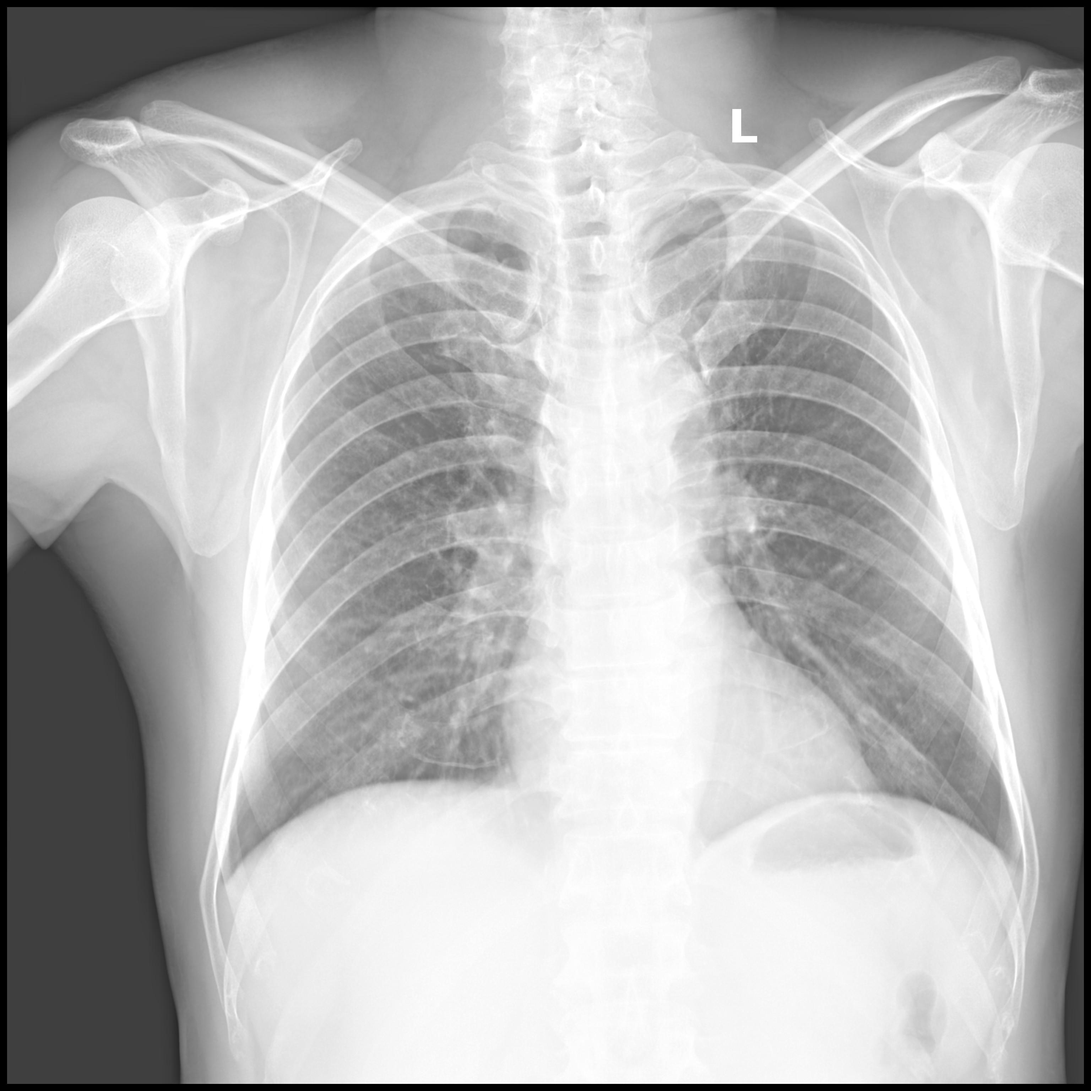Aortic enlargement: (598, 350, 724, 527)
